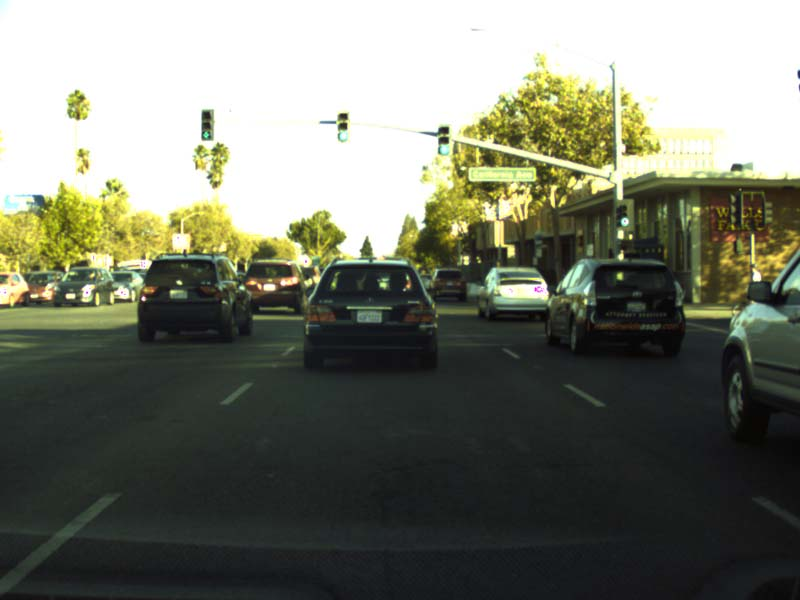Green: (615, 199, 633, 230), (201, 109, 213, 140), (437, 126, 449, 154), (337, 112, 348, 141)
